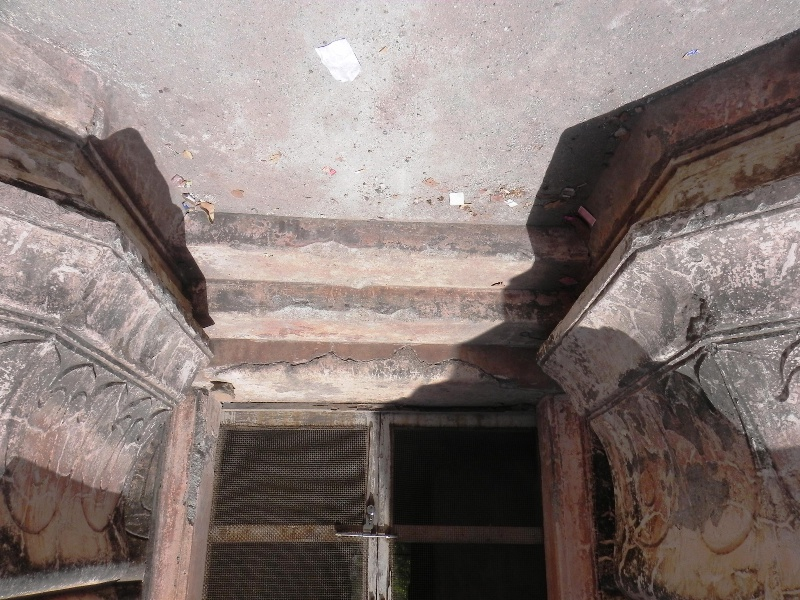Crack: (220, 350, 385, 373), (420, 348, 501, 380)
